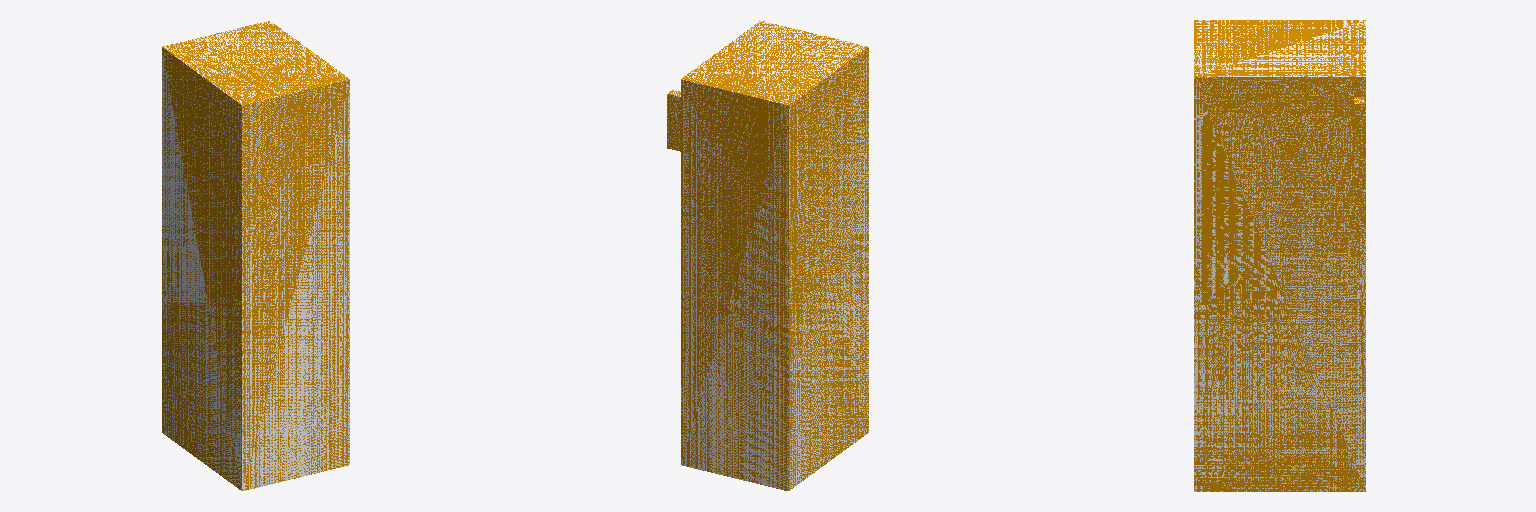
robot.urdf — my_object:
<?xml version="1.0" ?> 
<robot name="my_object" static="true">
  <link name="base_link">
  <inertial>
    <mass value="1.0" />
    <origin xyz="0 0 0.0" />
    <inertia ixx="1.0" ixy="0.0" ixz="0.0" iyy="1.0" iyz="0.0" izz="1.0"/>
  </inertial>
  <visual>
   <origin xyz="0 0 0.0" rpy="0 0 0" />
   <geometry>
     <mesh filename="package://cob_gazebo_objects/Media/models/schrank_diamondback.dae"/>
   </geometry>
  </visual>
  <collision>
   <origin xyz="0 0 0.0" rpy="0 0 0" />
   <geometry>
     <mesh filename="package://cob_gazebo_objects/Media/models/schrank_diamondback.dae" />
   </geometry>
  </collision>     
  </link>

<gazebo>
	<static>true</static>
</gazebo>
</robot>

--- Facts derived from the render (not from the file) ---
The picture shows the robot from 3 angles, left to right: view 1: azimuth 30°, elevation 25°; view 2: azimuth 150°, elevation 25°; view 3: azimuth 270°, elevation 25°; orthographic projection.
Model my_object with 1 links and 0 joints (none), rooted at base_link, posed every joint at zero.
Visible links, largest first — view 1: base_link; view 2: base_link; view 3: base_link.
Link boxes in pixels (box(x1,y1,x2,y2)): base_link: box(162, 21, 349, 490); base_link: box(667, 21, 868, 490); base_link: box(1194, 20, 1365, 491).
Bounding box of the posed robot: 0.0089 × 0.0101 × 0.0269 m (x, y, z).
1 mesh visuals loaded from 1 distinct referenced files (1 Collada DAE).
